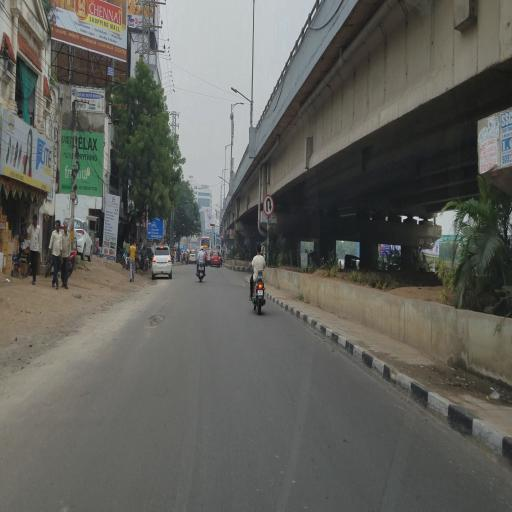street_light_0: (227, 76, 254, 102), (214, 165, 232, 187), (227, 96, 247, 114), (222, 134, 235, 152)
